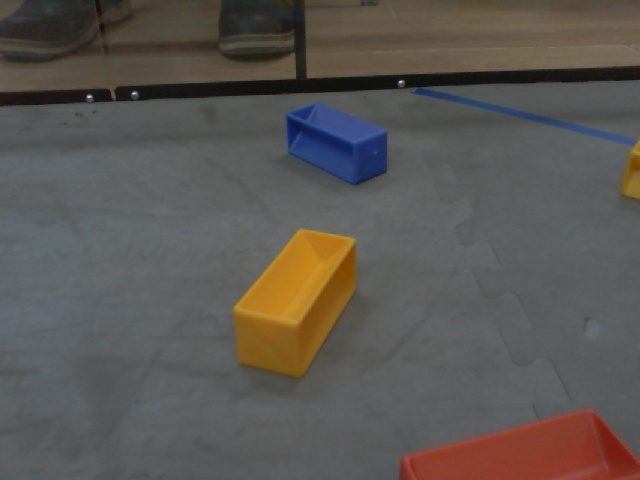BlueSample: (283, 99, 392, 186)
RedSample: (385, 406, 640, 479)
YellowSample: (230, 227, 358, 381), (618, 135, 640, 206)
